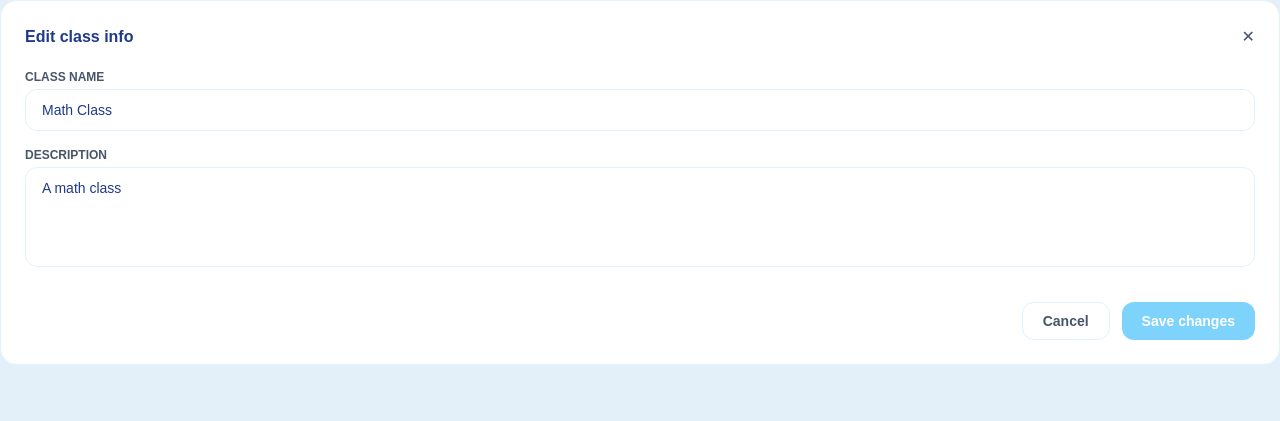
Test case: EditInfoPanel › shows error on save failure
The image size is (1280, 421).
Click the button "Save changes".
click(1188, 321)  # box x1=1122 y1=302 x2=1255 y2=340
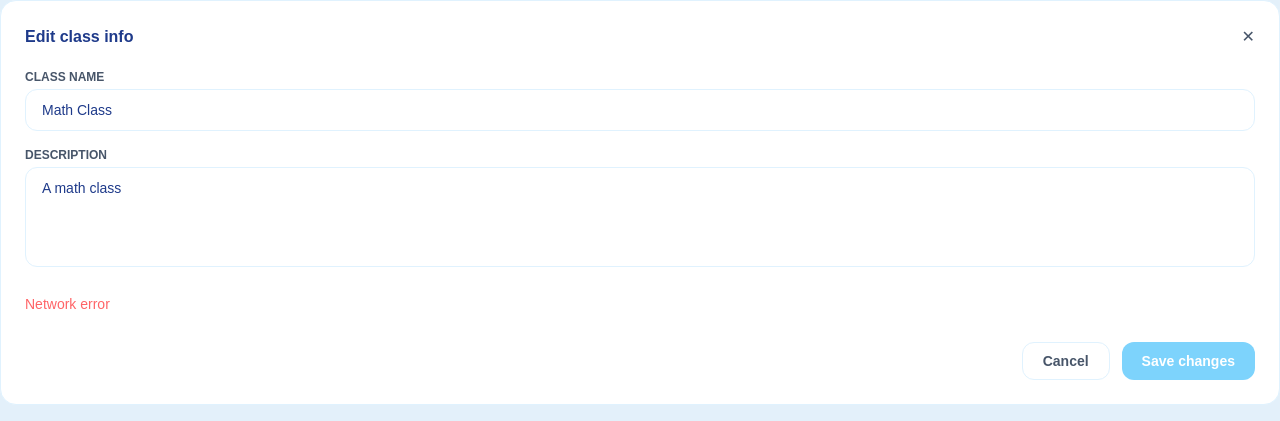
Expected: the text "Network error" is shown, x1=25 y1=296 x2=110 y2=312
